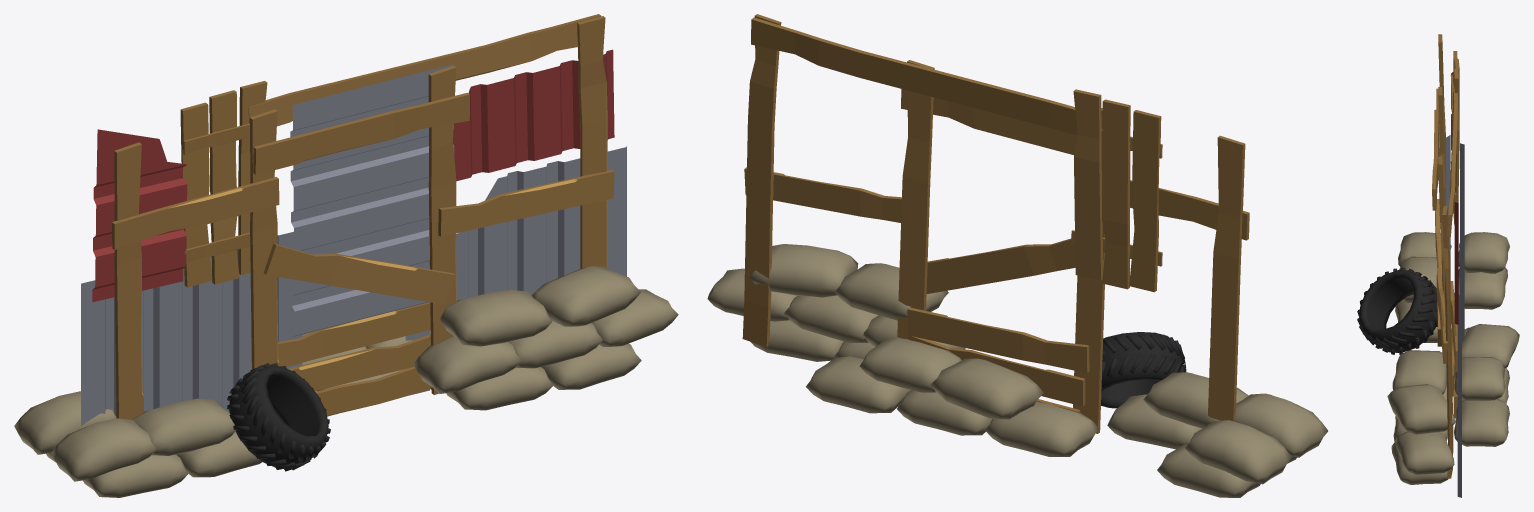
The model's file is barrier-trash.glb.
3 views of the same model, side by side, from view 1: azimuth 30°, elevation 25°; view 2: azimuth 150°, elevation 25°; view 3: azimuth 270°, elevation 25° (orthographic). The views are drawn at different scales.
Parts seen in each view (by area): view 1: Barrier_Trash; view 2: Barrier_Trash; view 3: Barrier_Trash.
Part boxes in pixels (<box>): Barrier_Trash: <box>14,14,678,497</box>; Barrier_Trash: <box>707,14,1327,497</box>; Barrier_Trash: <box>1357,34,1519,497</box>.
Size of the model in its own units: 4.49 by 2.51 by 1.31.
